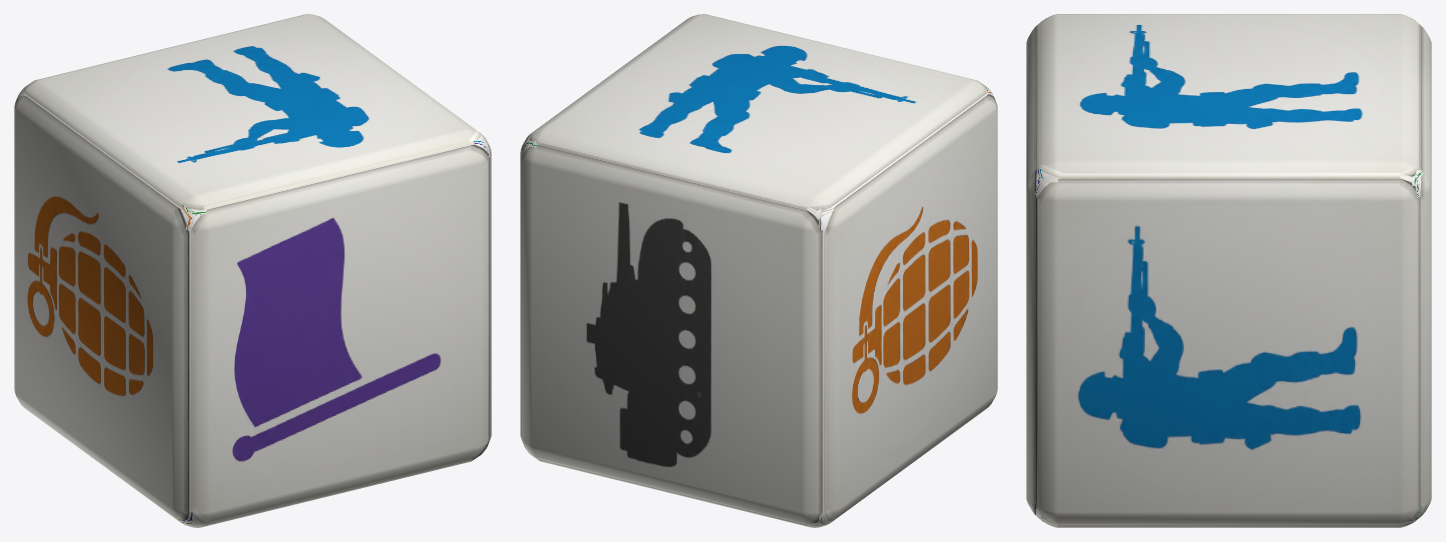
Rendered from dice.glb.
3 renders of one model, left to right at view 1: azimuth 30°, elevation 25°; view 2: azimuth 150°, elevation 25°; view 3: azimuth 270°, elevation 25°, orthographic. The views are drawn at different scales.
Parts seen in each view (by area): view 1: Cube; view 2: Cube; view 3: Cube.
Boxes of the visible parts, x1=… form: Cube: x1=14, y1=14, x2=491, y2=527; Cube: x1=520, y1=14, x2=997, y2=527; Cube: x1=1026, y1=14, x2=1431, y2=527.
Size of the model in its own units: 1.93 by 1.93 by 1.93.
Materials: 1 (1 with a texture image).
